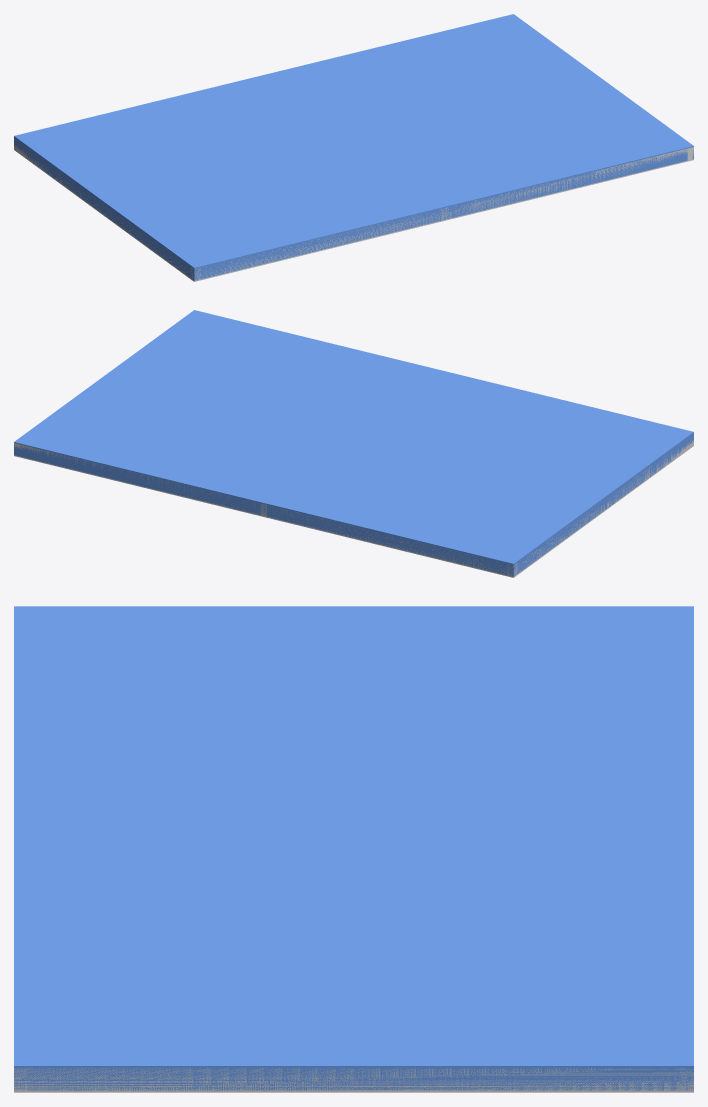
The model's file is basketballcourt.fbx.
3 views of the same model, one above another, from view 1: azimuth 30°, elevation 25°; view 2: azimuth 150°, elevation 25°; view 3: azimuth 270°, elevation 25° (orthographic). The views are drawn at different scales.
Visible parts, largest first — view 1: ground1, pCube32, pCube30; view 2: ground1, pCube33, pCube30; view 3: ground1, pCube31.
Part boxes in pixels (<box>): ground1: <box>14,14,693,280</box>; pCube32: <box>190,148,687,281</box>; pCube30: <box>14,145,200,281</box>; ground1: <box>14,310,693,576</box>; pCube33: <box>14,443,517,576</box>; pCube30: <box>507,440,693,577</box>; ground1: <box>14,606,693,1090</box>; pCube31: <box>14,1068,693,1092</box>.
Bounding box in the file's own units: 40 × 1.08 × 25.
